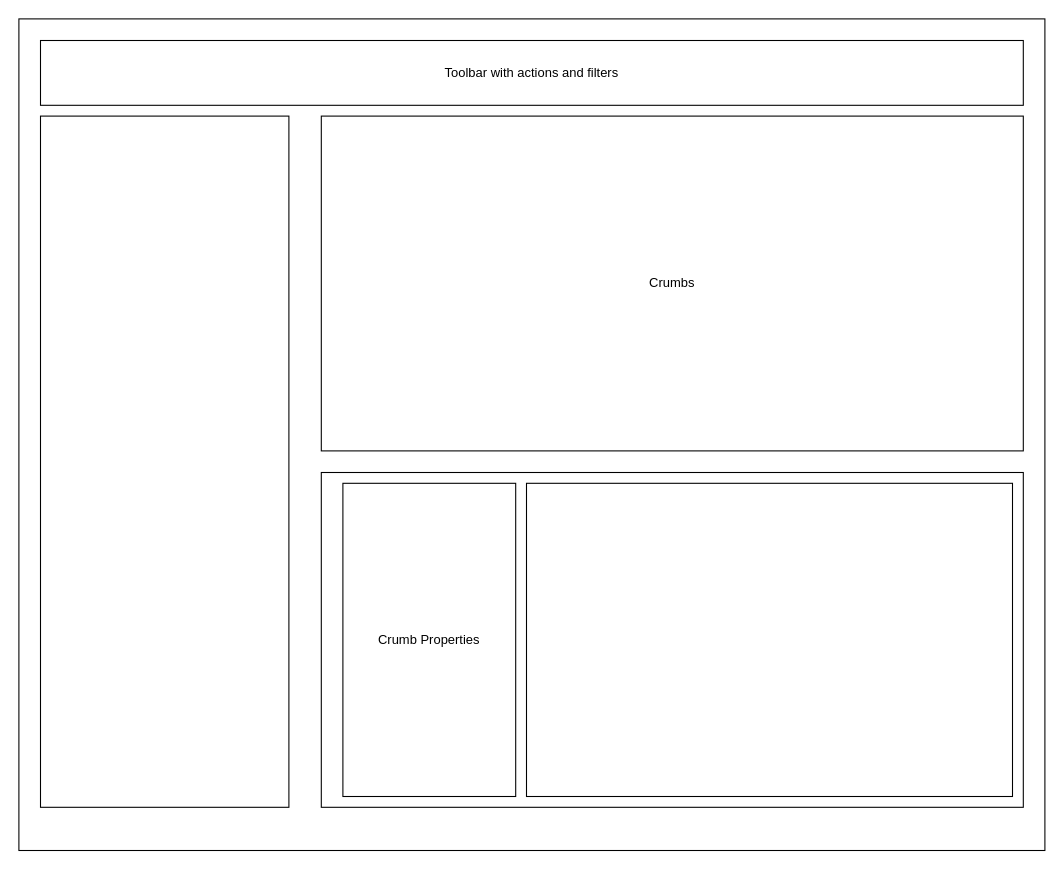
Some shapes in this 1064 by 869 pixel diagram are drawn without their labels. The shapes that lost their labels are listed below. From the top down, each one's centre as x and y in pixels, then its label:
At point 164,461: "Libraries/Directories".
At point 769,639: "Crumb Text".
